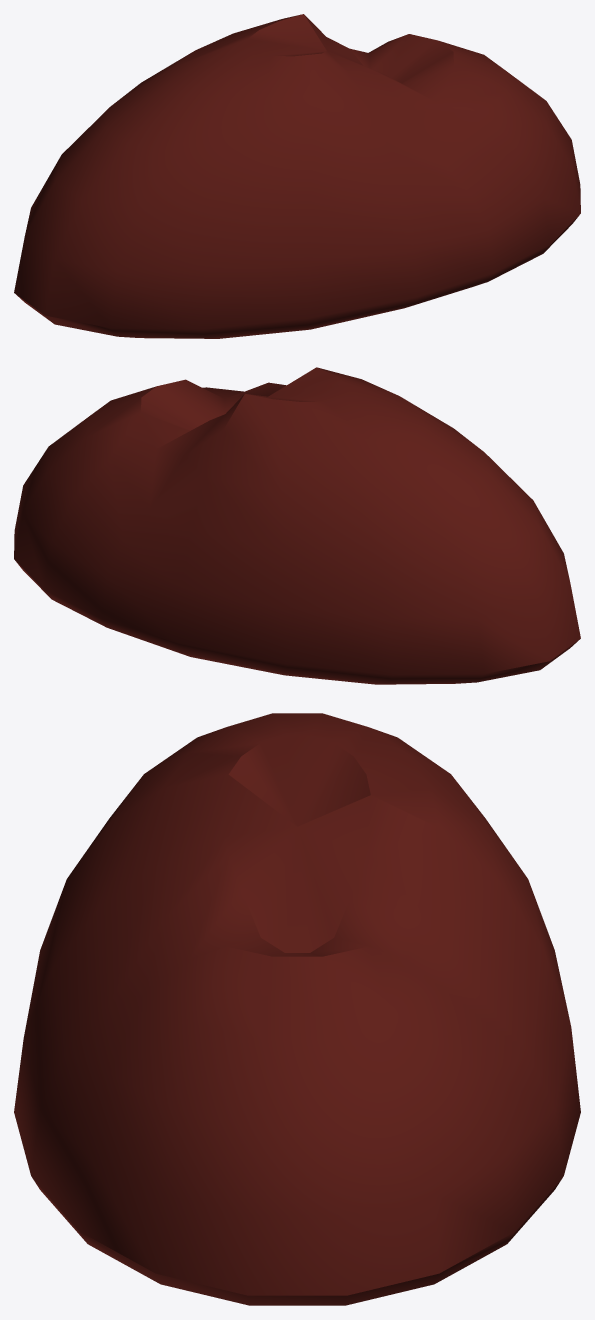
The model's file is organ_liver.glb.
3 renders of one model, top to bottom at view 1: azimuth 30°, elevation 25°; view 2: azimuth 150°, elevation 25°; view 3: azimuth 270°, elevation 25°, orthographic. The views are drawn at different scales.
Visible parts, largest first — view 1: organ_liver; view 2: organ_liver; view 3: organ_liver.
Part boxes in pixels (x1=…): organ_liver: x1=14, y1=14, x2=580, y2=338; organ_liver: x1=14, y1=367, x2=580, y2=684; organ_liver: x1=14, y1=713, x2=580, y2=1305.
Size of the model in its own units: 0.1551 by 0.0678 by 0.09.
